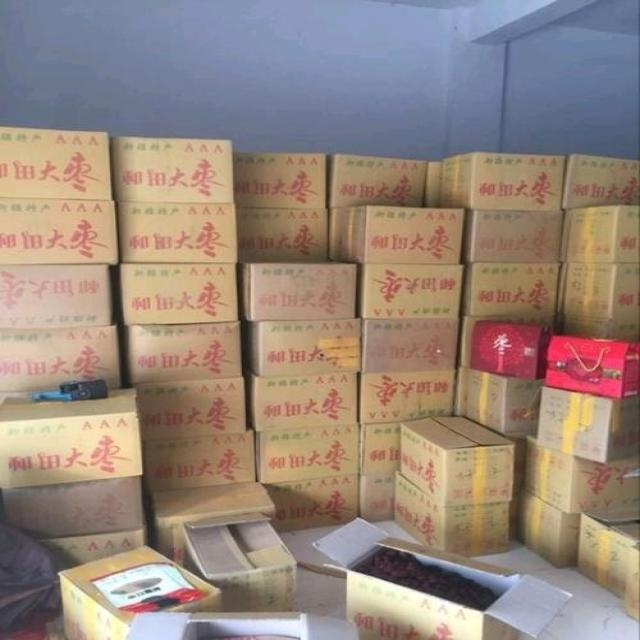box: (58, 545, 221, 639), (0, 396, 143, 488), (152, 483, 277, 572), (398, 416, 515, 505), (394, 473, 510, 557), (1, 475, 145, 541), (523, 433, 639, 514), (0, 125, 112, 201), (111, 134, 234, 203), (327, 205, 465, 265), (240, 366, 361, 433), (0, 197, 118, 265), (142, 426, 257, 495), (0, 326, 121, 391), (539, 386, 639, 464), (130, 378, 246, 443), (118, 201, 239, 263), (439, 151, 565, 210), (120, 263, 238, 324), (0, 264, 110, 329), (125, 322, 240, 384), (242, 261, 356, 322), (242, 319, 362, 375), (254, 425, 360, 484), (354, 263, 463, 318), (577, 504, 639, 600), (460, 208, 563, 264), (261, 477, 361, 533), (357, 318, 460, 372), (232, 150, 326, 208), (330, 154, 430, 208), (467, 367, 541, 438), (461, 262, 559, 315), (361, 370, 457, 423), (519, 486, 581, 568), (236, 206, 327, 261), (561, 205, 639, 263), (560, 260, 639, 317), (563, 153, 639, 210), (360, 422, 399, 476)
